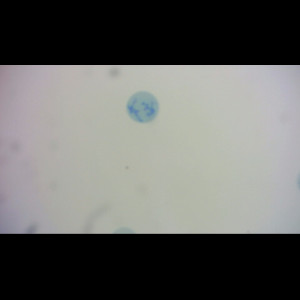aggregate reticulocyte: (125, 90, 160, 124)
